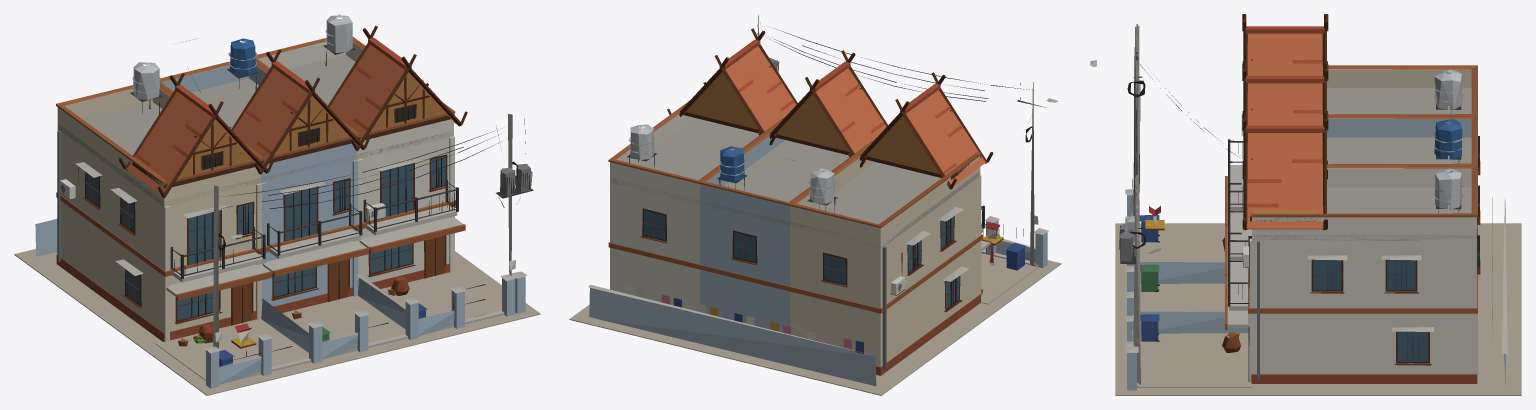
The model's file is home_3.glb.
3 renders of one model, left to right at view 1: azimuth 30°, elevation 25°; view 2: azimuth 150°, elevation 25°; view 3: azimuth 270°, elevation 25°, orthographic. The views are drawn at different scales.
Visible parts, largest first — view 1: body, windows; view 2: body, windows; view 3: body, windows.
Part boxes in pixels (box(x1,y1,x2,y2)): body: box(14, 14, 540, 395); windows: box(85, 104, 445, 320); body: box(569, 15, 1061, 395); windows: box(643, 101, 1055, 308); body: box(1090, 14, 1521, 395); windows: box(1091, 66, 1477, 361).
Size of the model in its own units: 15.9 by 10.84 by 16.88.
